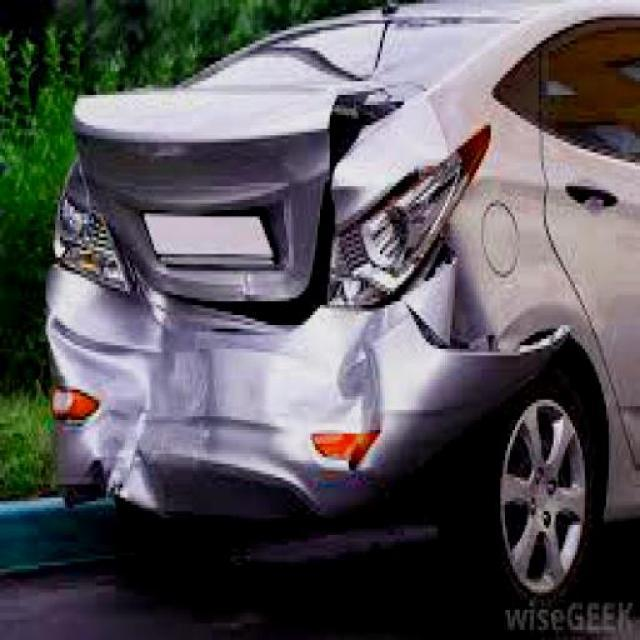Car-Damage: (50, 81, 565, 529)
